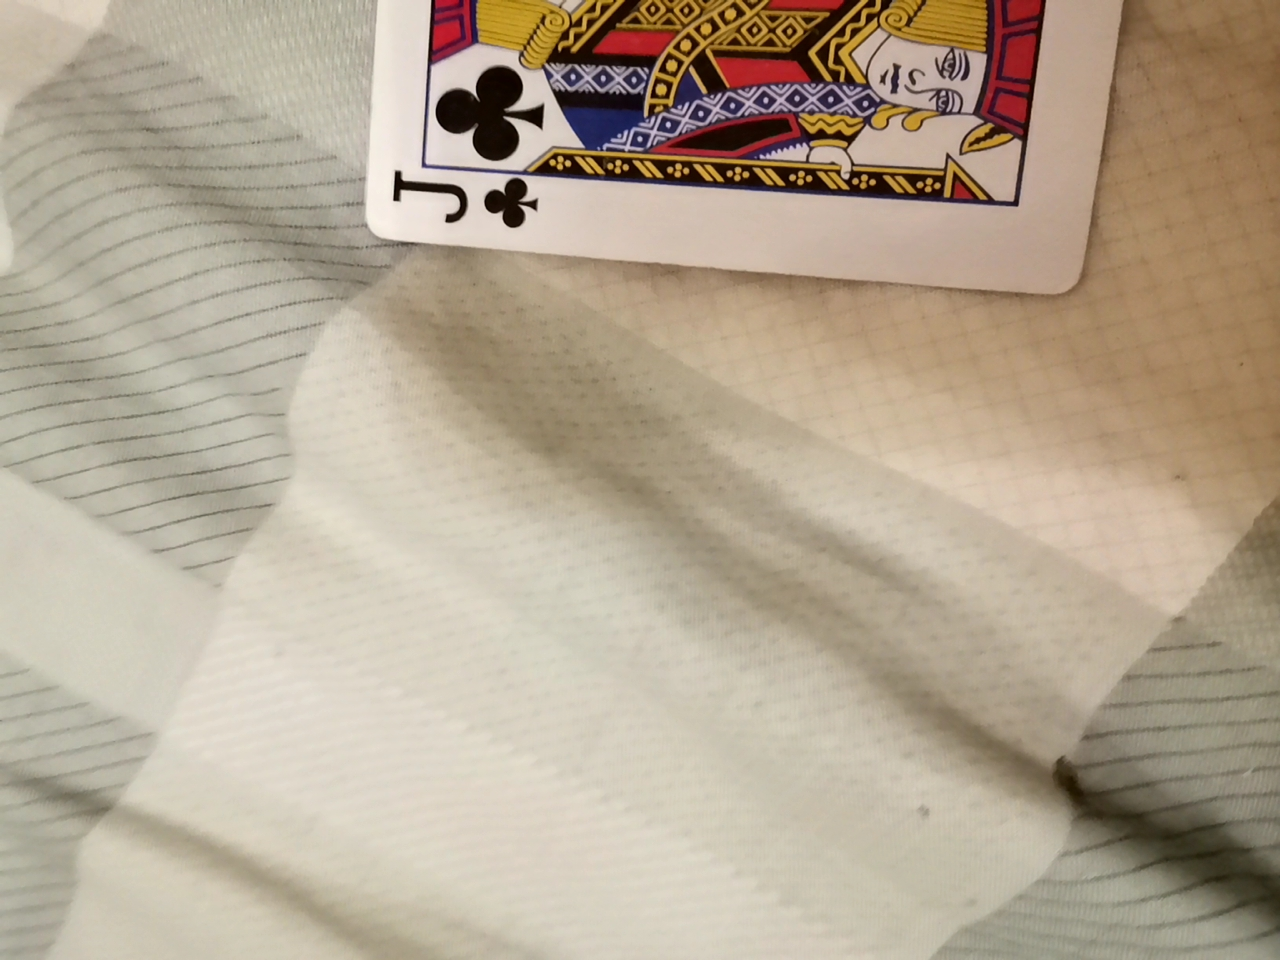mh j: (335, 0, 1135, 283)
